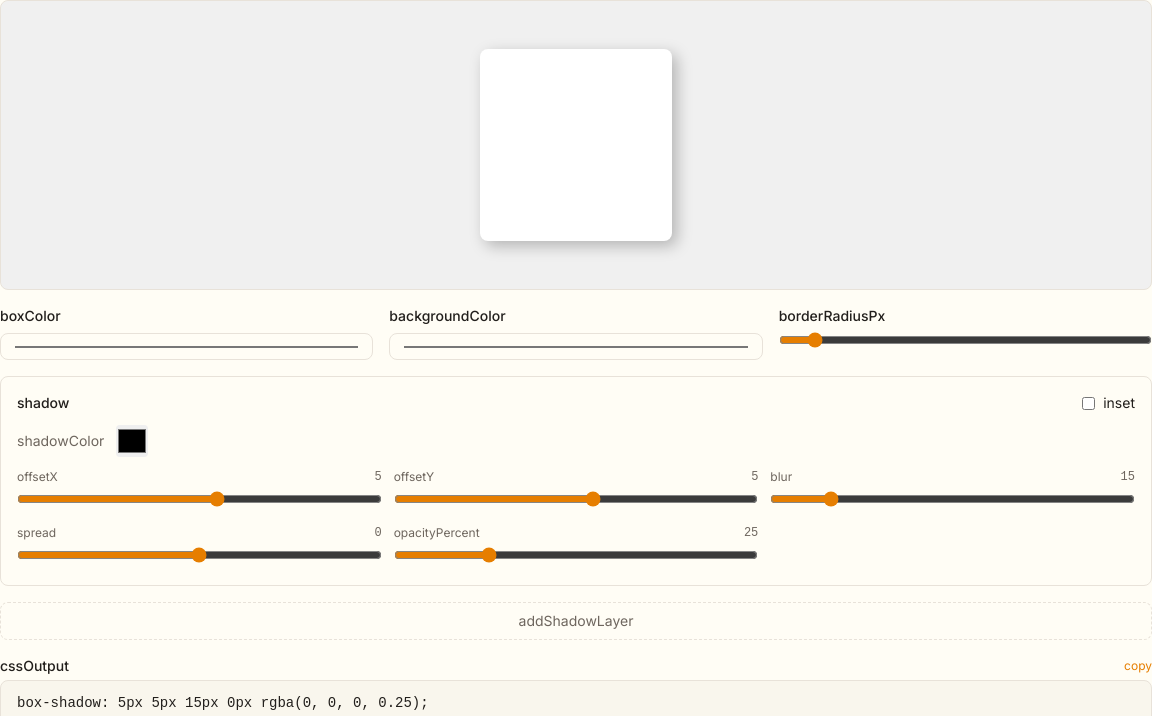
Test: CssBoxShadowGenerator › adds a new shadow layer
The width and height of the screenshot is (1152, 716).
Click the button with aria-label "addNewShadow".
click(576, 621)  # box [0,602,1151,640]
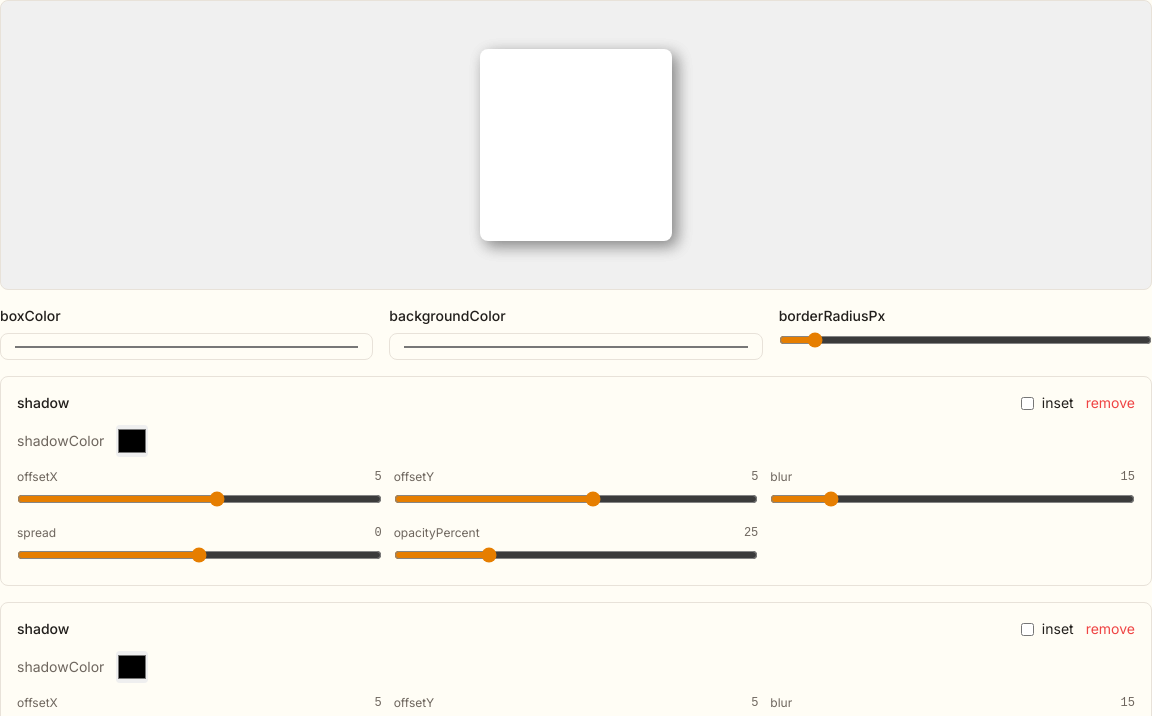
Now the text "shadow" is shown 2 times, box [17,393,69,413]; [17,619,69,639]
